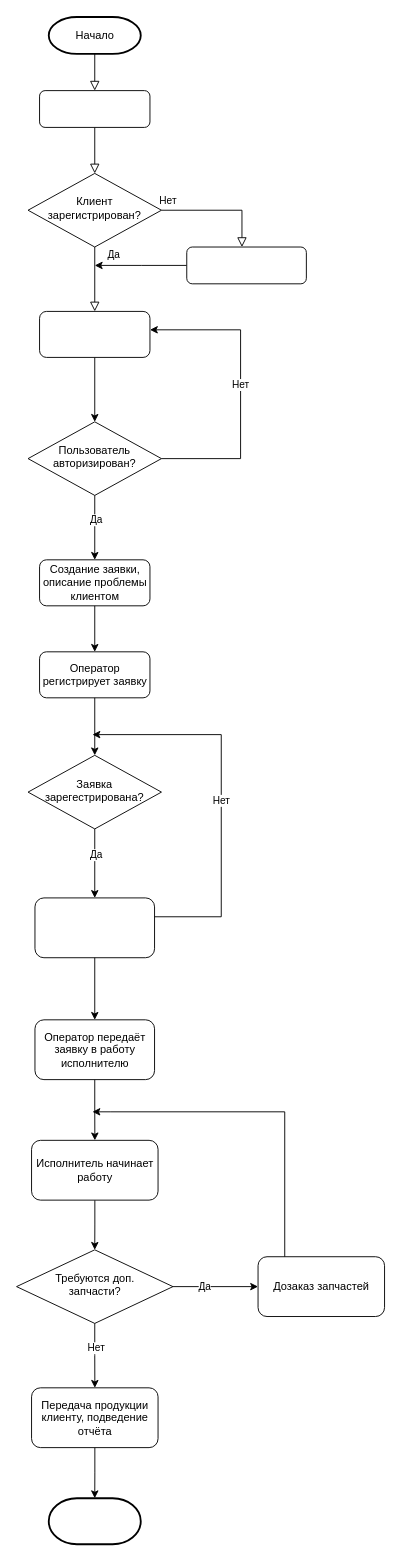
Some shapes in this 400 by 1560 pixel diagram are drawn without their labels. Here are the shapes that lost their labels. From the top down, the centre of each, then its label:
At point 94,108: "Клиент хочет оставить заявку".
At point 246,265: "Регистрация".
At point 94,333: "Авторизация пользователя".
At point 94,927: "Обработка оператором заявки".
At point 94,1521: "Конец".
